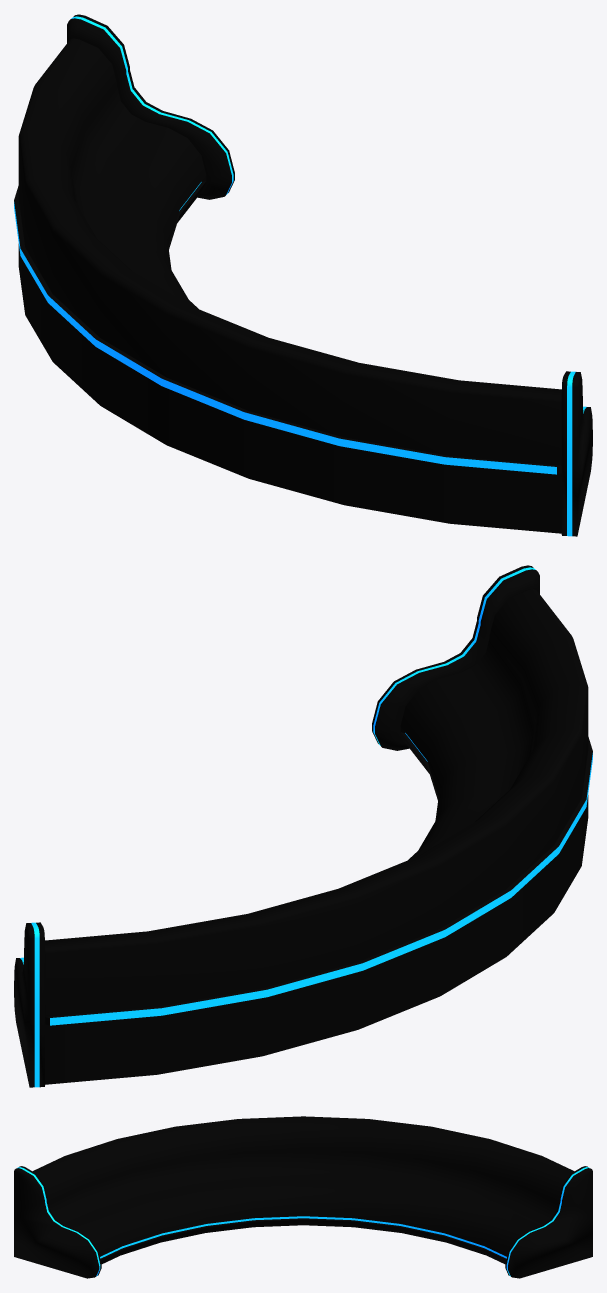
Rendered from curved_sci-fi_sofa.glb.
3 views of the same model, one above another, from view 1: azimuth 30°, elevation 25°; view 2: azimuth 150°, elevation 25°; view 3: azimuth 270°, elevation 25° (orthographic). The views are drawn at different scales.
Visible parts, largest first — view 1: Main, Arms, Led, LedArm; view 2: Main, Arms, Led, LedArm; view 3: Main, Arms, Led, LedArm.
Part boxes in pixels (box(x1,y1,x2,y2)): Main: box(14, 38, 561, 533); Arms: box(67, 14, 592, 536); Led: box(14, 182, 556, 474); LedArm: box(71, 16, 586, 536); Main: box(45, 589, 592, 1084); Arms: box(14, 565, 539, 1087); Led: box(50, 733, 592, 1025); LedArm: box(20, 567, 535, 1087); Main: box(32, 1116, 574, 1263); Arms: box(14, 1166, 592, 1278); Led: box(100, 1216, 506, 1258); LedArm: box(17, 1167, 589, 1276).
Size of the model in its own units: 4.91 by 2.28 by 13.47.
